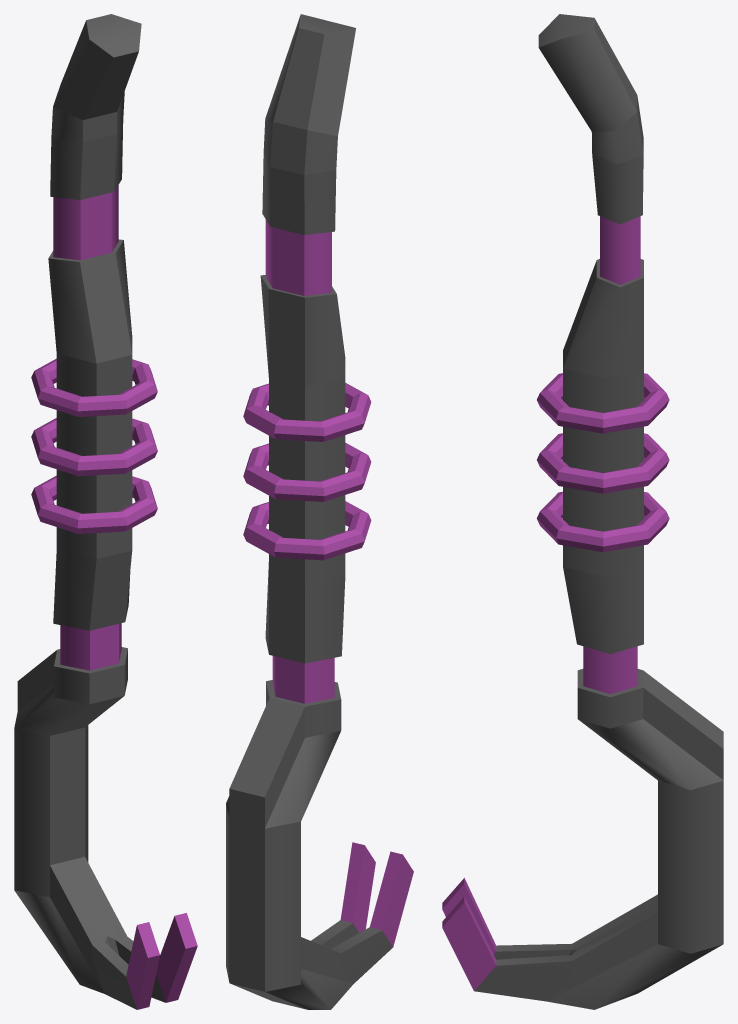
Rendered from Pied de biche.fbx.
The picture shows the model from 3 angles, left to right: view 1: azimuth 30°, elevation 25°; view 2: azimuth 150°, elevation 25°; view 3: azimuth 270°, elevation 25°; orthographic projection.
Visible parts, largest first — view 1: pCube14; view 2: pCube14; view 3: pCube14.
Boxes of the visible parts, left/top/right/bottom form: pCube14: left=14, top=14, right=197, bottom=1009; pCube14: left=226, top=14, right=413, bottom=1009; pCube14: left=442, top=14, right=723, bottom=1009.
Size of the model in its own units: 0.8809 by 7.14 by 1.87.
